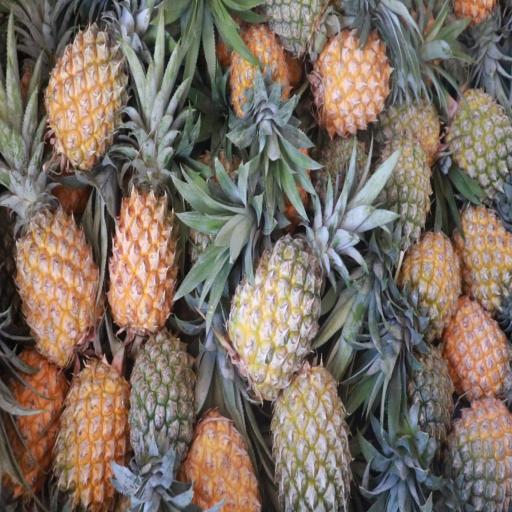------------------------------: (230, 244, 316, 390), (274, 359, 348, 512)
Pineapple - v8 v1: (17, 190, 98, 357), (56, 356, 130, 506), (50, 29, 127, 164), (110, 178, 177, 327), (1, 346, 64, 487), (315, 33, 391, 132), (192, 406, 258, 512), (450, 305, 512, 403), (226, 28, 287, 124), (458, 208, 512, 308), (407, 233, 459, 329)
